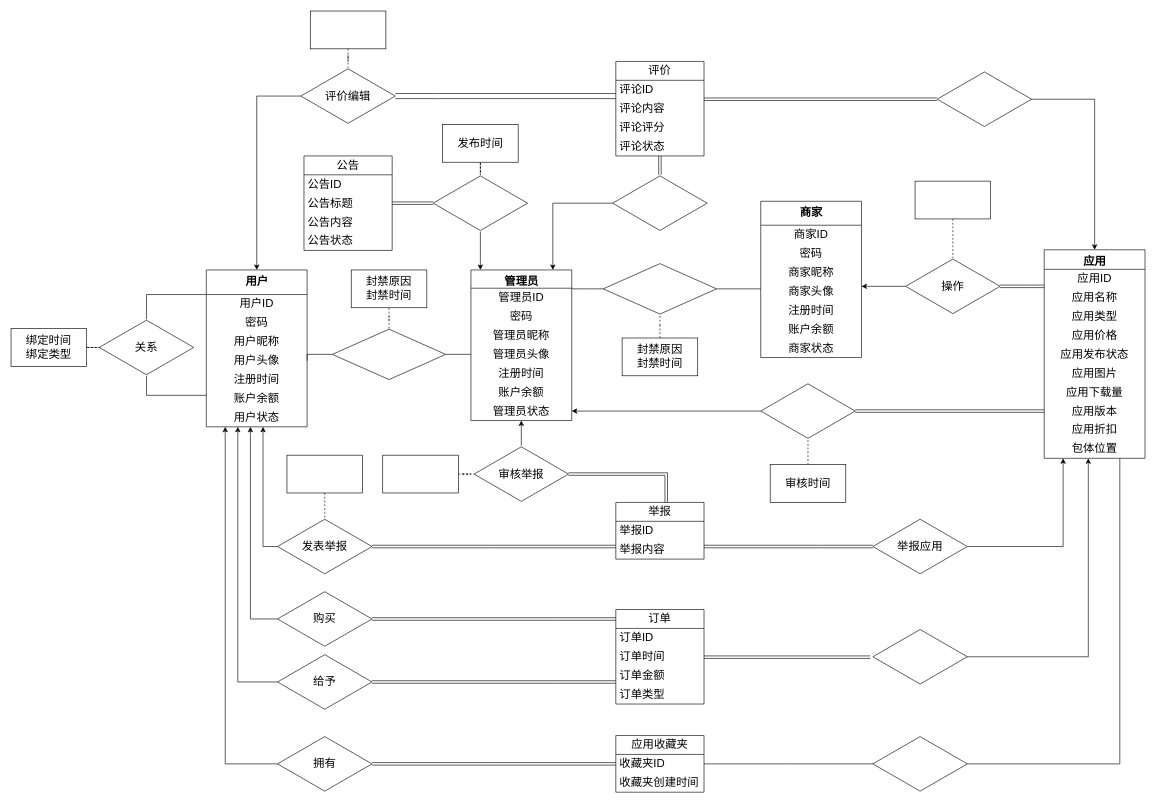
The diagram is 1156 pixels wide and 803 high, and some of its shapes have lost their labels. The shapes that lost their labels are listed below. From the top down, each one's centre as x and y in pixels, then its label:
(348,29): 评价发表时间
(984,99): 评论
(480,203): 发布
(659,203): 评价删除
(952,199): 操作类型 操作时间
(660,288): 商家封禁
(389,354): 用户封禁
(807,410): 应用审核
(324,474): 举报提交时间
(420,474): 审核接收时间 审核通过时间 审核结果
(919,656): 销售
(919,763): 收藏
